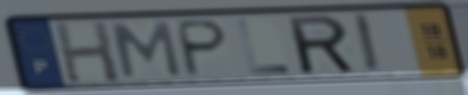H: (50, 19, 123, 85)
I: (349, 11, 384, 76)
L: (234, 17, 294, 76)
M: (108, 20, 185, 80)
P: (175, 18, 231, 79)
R: (284, 13, 359, 77)
